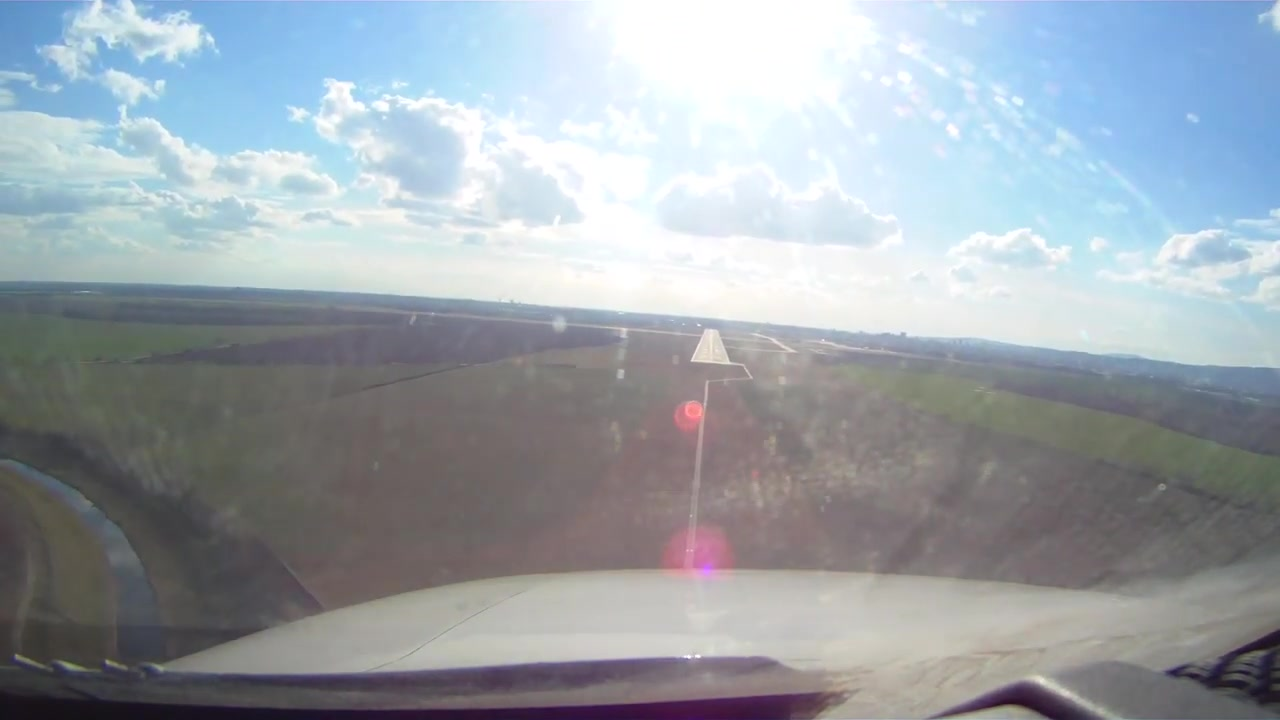runway: (691, 328, 728, 365)
